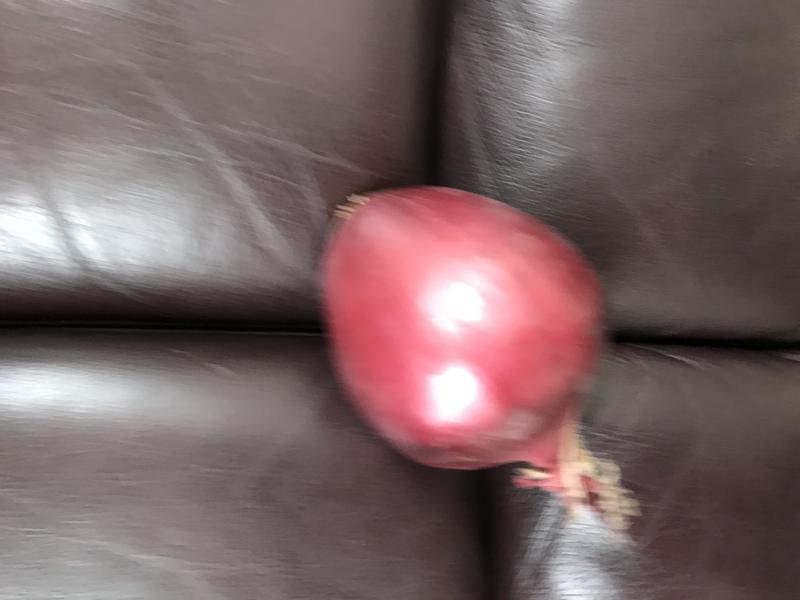purple_onion: (306, 161, 655, 544)
